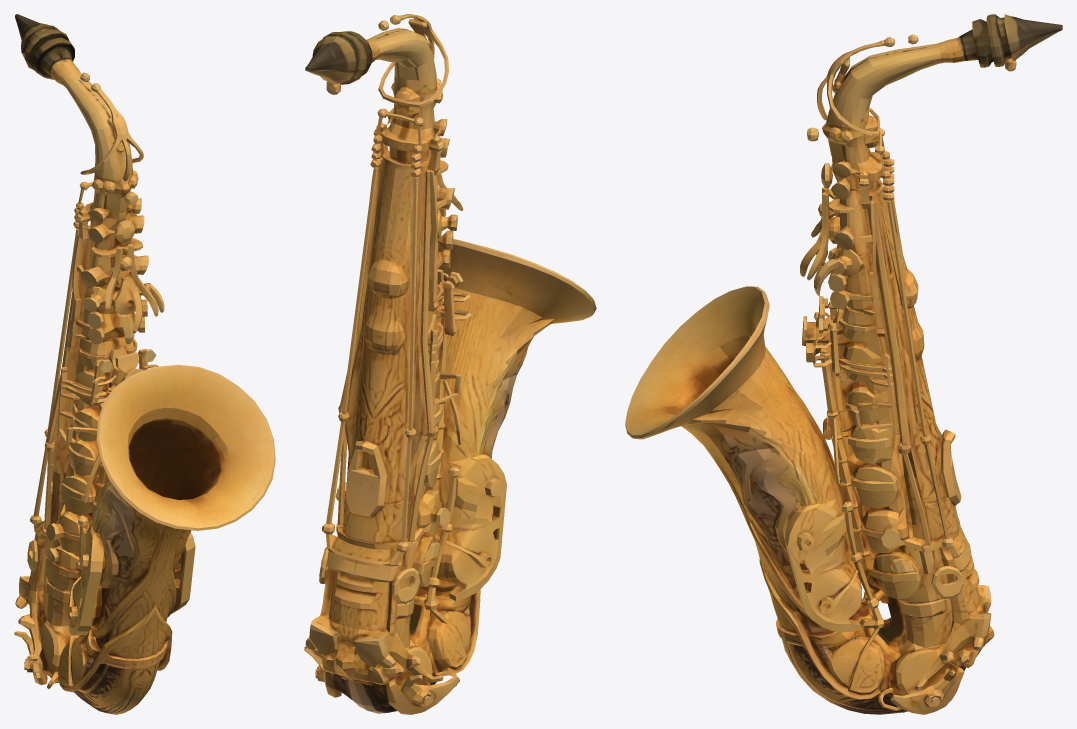
Rendered from saxophone.glb.
3 renders of one model, left to right at view 1: azimuth 30°, elevation 25°; view 2: azimuth 150°, elevation 25°; view 3: azimuth 270°, elevation 25°, orthographic. The views are drawn at different scales.
Visible parts, largest first — view 1: model; view 2: model; view 3: model.
Part boxes in pixels (<box>): model: <box>14,14,275,714</box>; model: <box>304,14,596,714</box>; model: <box>625,14,1062,714</box>.
Bounding box in the file's own units: 0.5145 × 1.9 × 1.08.
1 material, 1 textured.
